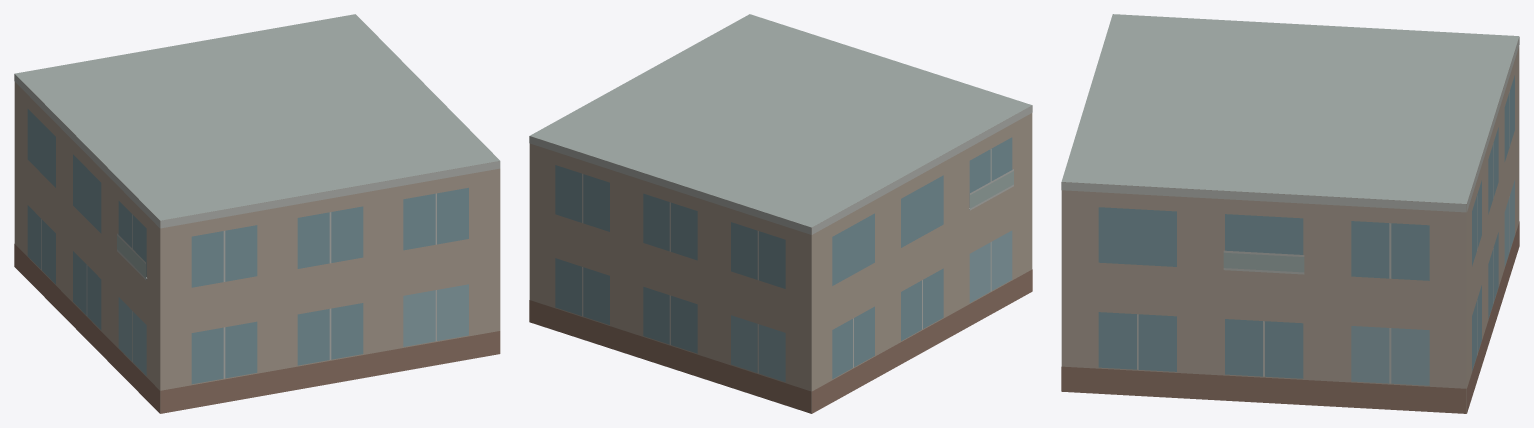
File: survey-upis-32868712.glb
3 renders of one model, left to right at view 1: azimuth 30°, elevation 25°; view 2: azimuth 150°, elevation 25°; view 3: azimuth 270°, elevation 25°, orthographic. The views are drawn at different scales.
Visible parts, largest first — view 1: survey-upis-32868712.tmp; view 2: survey-upis-32868712.tmp; view 3: survey-upis-32868712.tmp.
Part boxes in pixels (box(x1,y1,x2,y2)): survey-upis-32868712.tmp: box(14, 14, 500, 413); survey-upis-32868712.tmp: box(529, 14, 1032, 413); survey-upis-32868712.tmp: box(1061, 14, 1519, 413).
Bounding box in the file's own units: 11.86 × 6.1 × 12.08.
